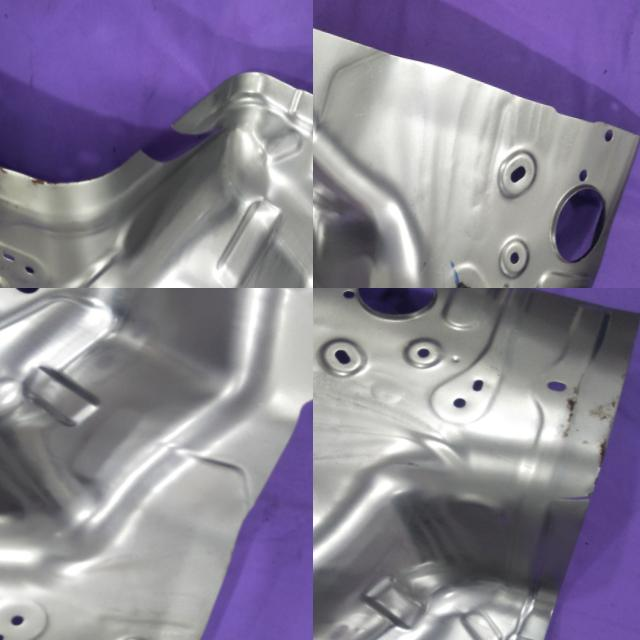Defect: (123, 100, 234, 190), (546, 478, 604, 520)
Healthy: (313, 0, 640, 288)
rust: (552, 378, 634, 485), (0, 153, 76, 201)
